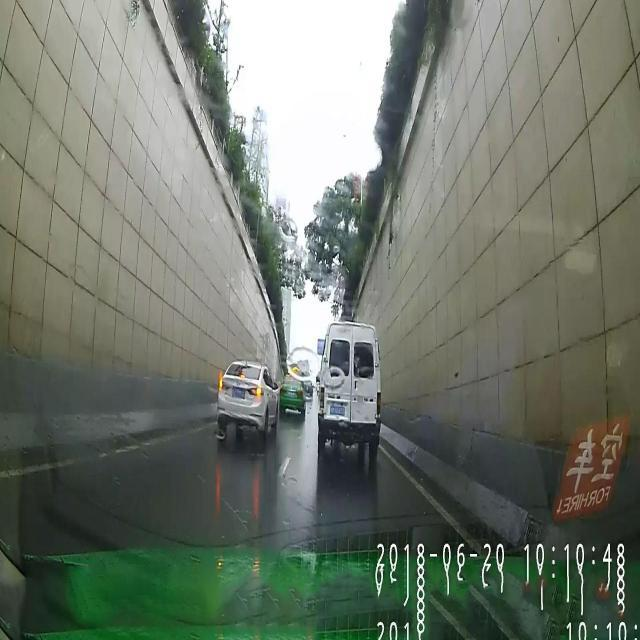car: (216, 359, 278, 436), (279, 374, 305, 418)
